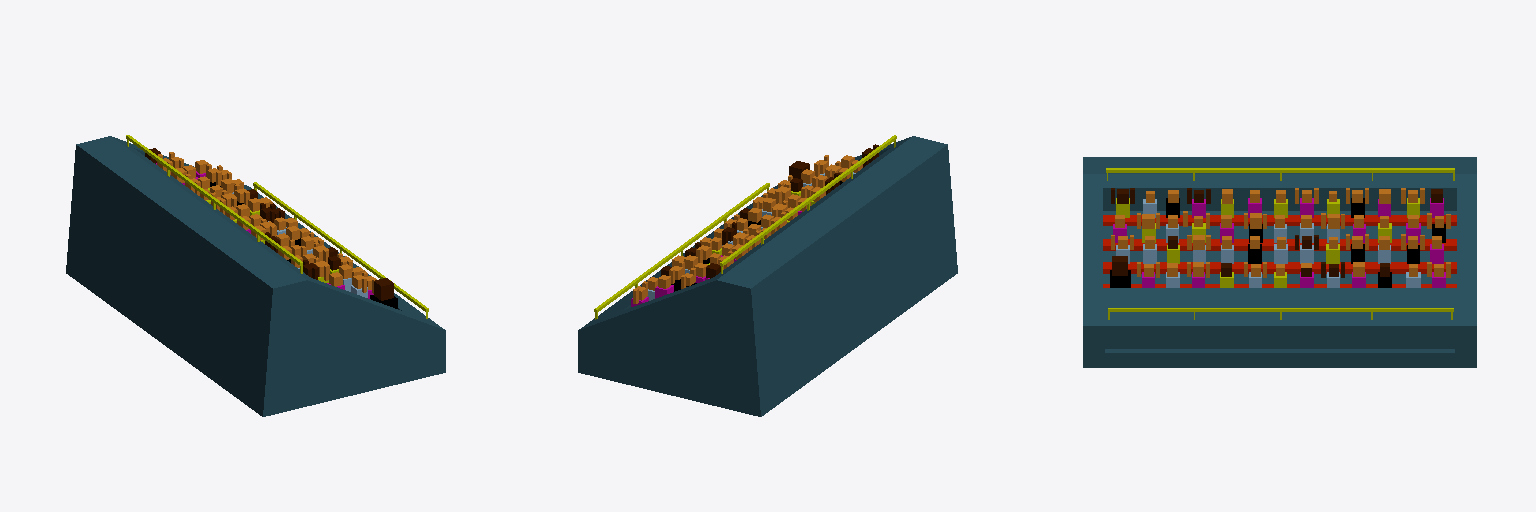
The model's file is Stadium_02.obj.
3 views of the same model, side by side, from view 1: azimuth 30°, elevation 25°; view 2: azimuth 150°, elevation 25°; view 3: azimuth 270°, elevation 25° (orthographic).
Visible parts, largest first — view 1: Stadium_02_Mesh.006; view 2: Stadium_02_Mesh.006; view 3: Stadium_02_Mesh.006.
Boxes of the visible parts, x1=… form: Stadium_02_Mesh.006: x1=66, y1=135, x2=445, y2=416; Stadium_02_Mesh.006: x1=578, y1=135, x2=957, y2=416; Stadium_02_Mesh.006: x1=1083, y1=157, x2=1476, y2=367.
Bounding box in the file's own units: 0.7758 × 0.5412 × 1.45.